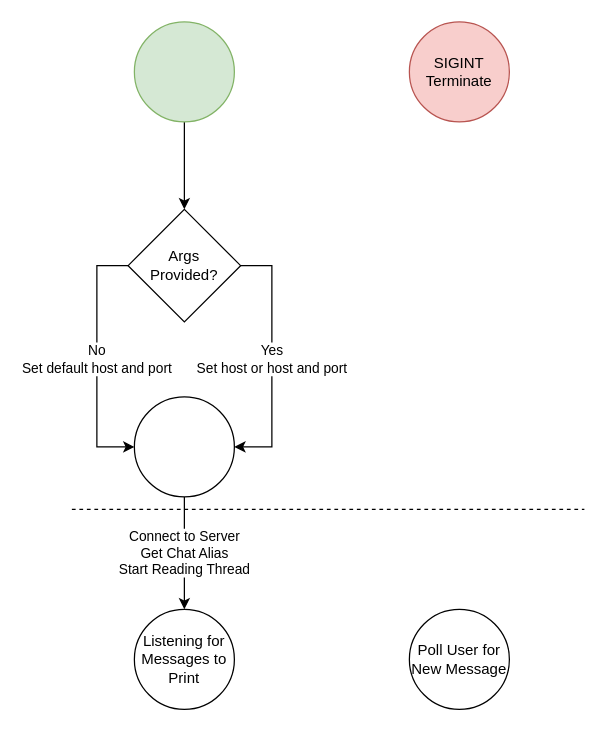
Some shapes in this 608 by 731 pixel diagram are drawn without their labels. Here are the shapes that lost their labels. From the top down, the centre of each, then its label:
the point at 183,71: Start
the point at 183,446: Params Set
